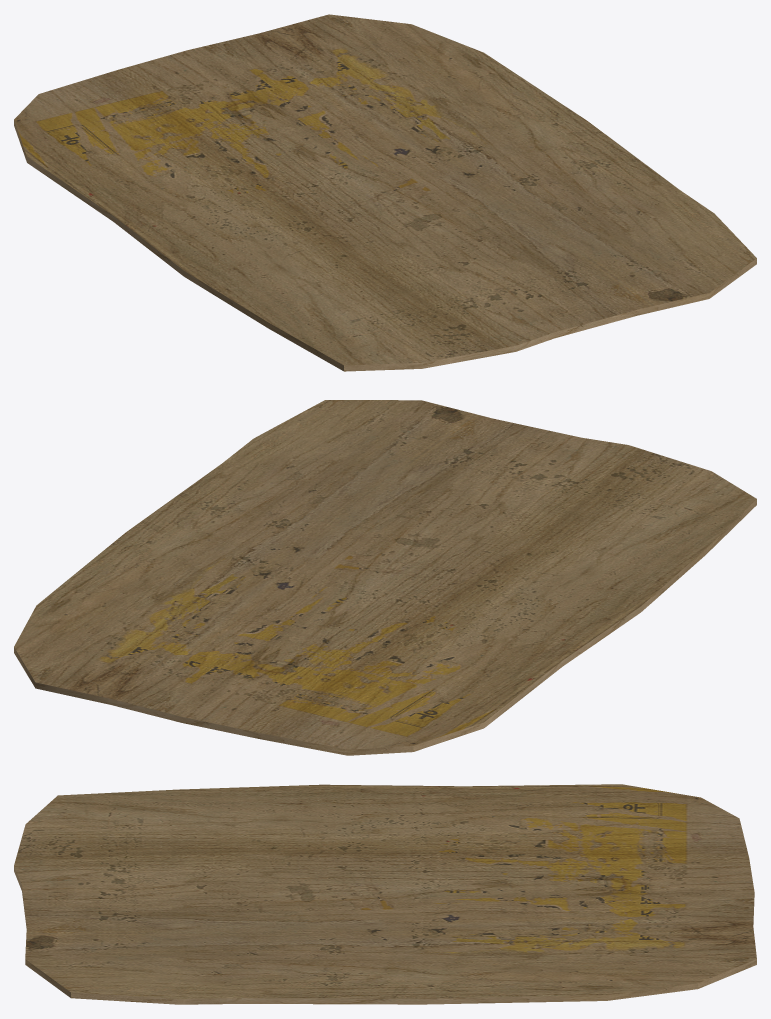
File: Woodplank1.FBX
The picture shows the model from 3 angles, top to bottom: view 1: azimuth 30°, elevation 25°; view 2: azimuth 150°, elevation 25°; view 3: azimuth 270°, elevation 25°; orthographic projection. The views are drawn at different scales.
Visible parts, largest first — view 1: WoodPlank1; view 2: WoodPlank1; view 3: WoodPlank1.
Part boxes in pixels (x1,y1,x2,y2): WoodPlank1: (14,14,756,371); WoodPlank1: (14,400,756,755); WoodPlank1: (14,784,756,1004).
Bounding box in the file's own units: 214 × 2.71 × 313.
